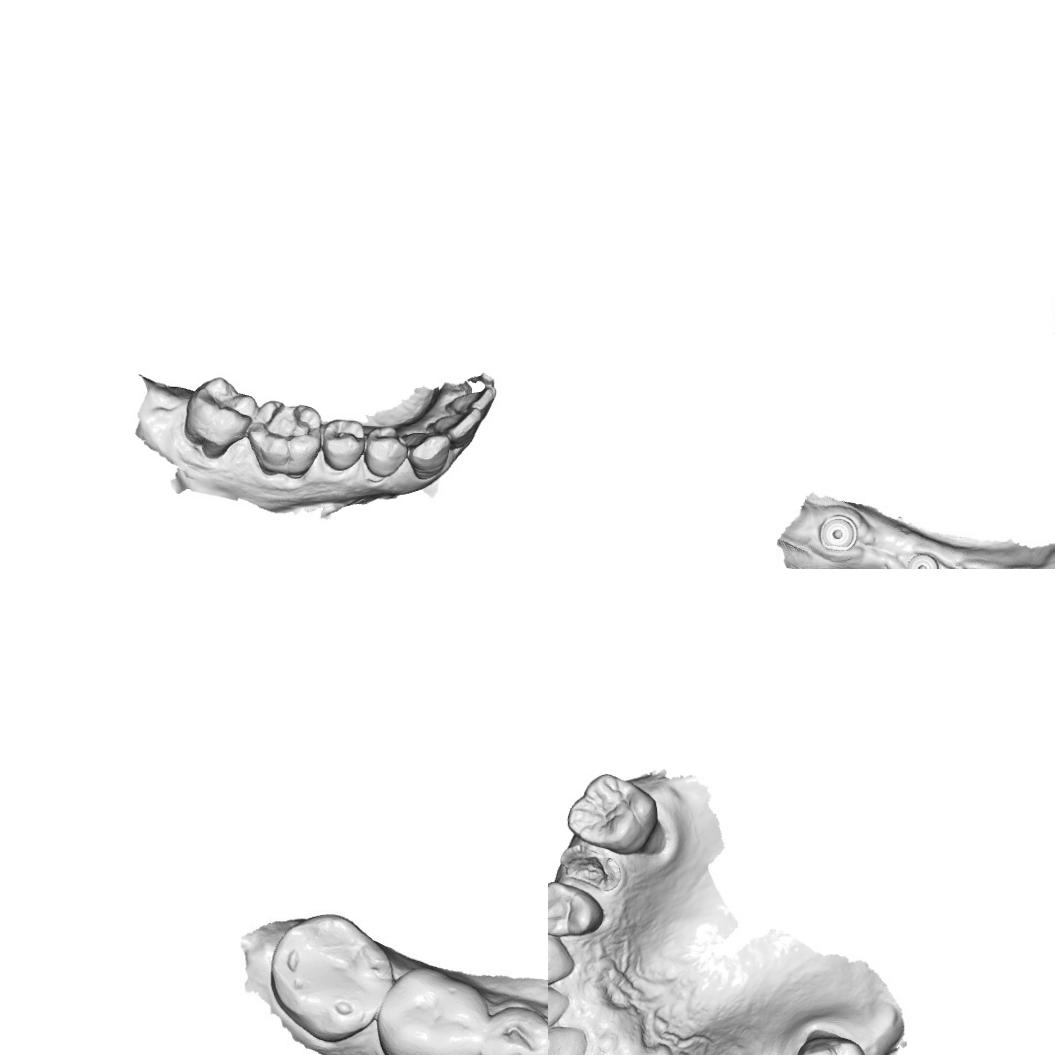canine: (402, 428, 452, 482), (548, 931, 576, 990)
implant: (815, 512, 860, 553), (904, 549, 939, 569)
incisor: (430, 406, 485, 440), (444, 386, 495, 414), (548, 1024, 588, 1055), (548, 986, 572, 1035)
inlay: (258, 398, 316, 448)
molar: (268, 912, 395, 1042), (375, 963, 487, 1055), (566, 772, 665, 856), (182, 374, 260, 460), (791, 1031, 871, 1055)
premolar: (478, 1003, 548, 1055), (548, 879, 605, 938), (320, 415, 368, 473), (364, 423, 408, 479)
